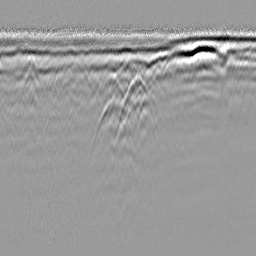cavity: (112, 73, 160, 144)
